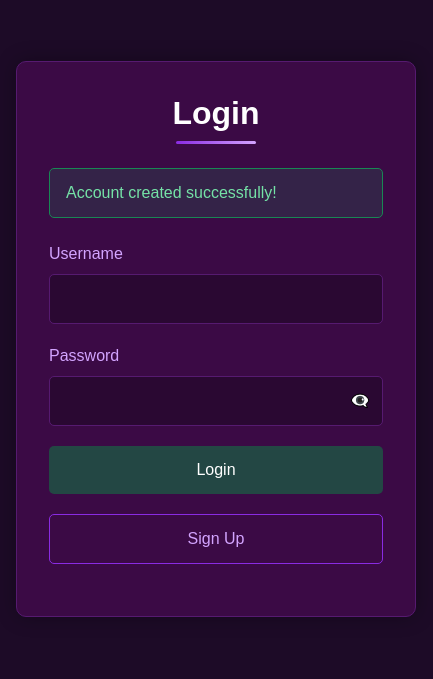
Test: LoginPage › handles Supabase errors gracefully
Type "testuser" into the field labelled "Username".
click(216, 299); type("testuser")  # box [49, 274, 383, 324]
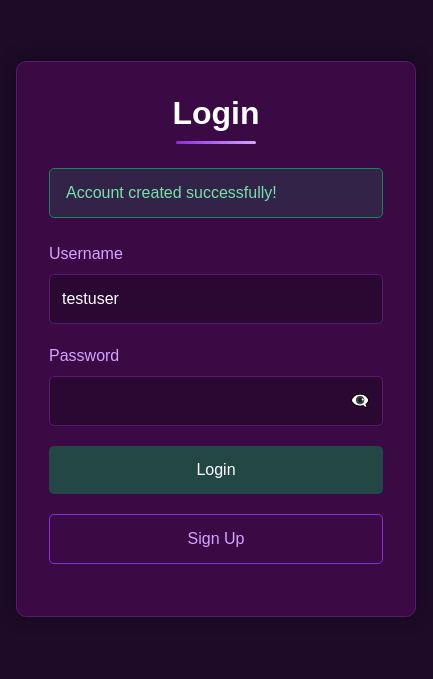
Type "password123" into the password field labelled "Password".
click(216, 401); type("password123")  # box [49, 376, 383, 426]
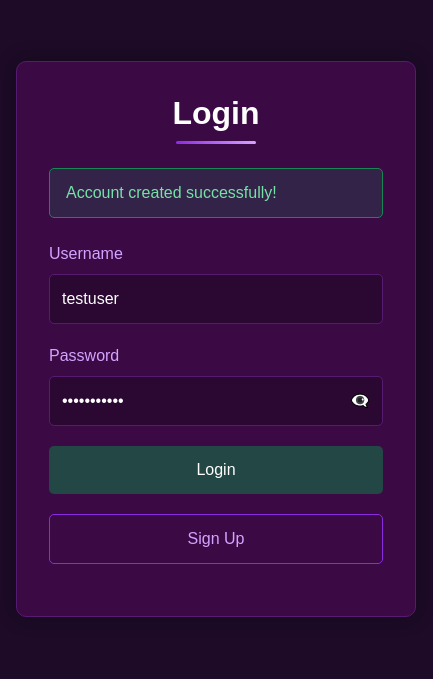
Click the button "Login".
click(216, 470)  # box [49, 446, 383, 494]
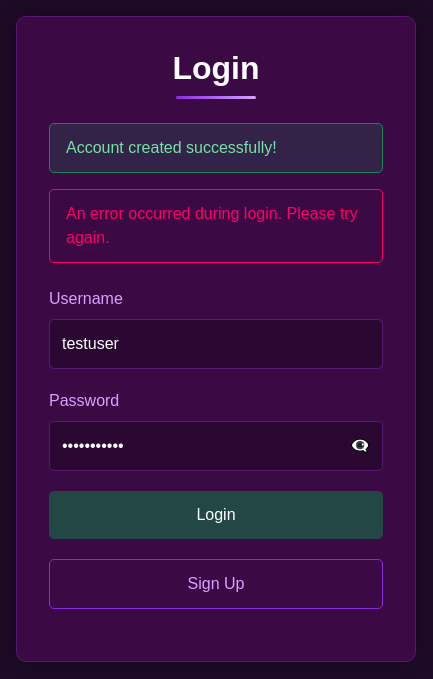
Check: the text "An error occurred during login. Please try again." is shown, box [49, 189, 383, 263]
